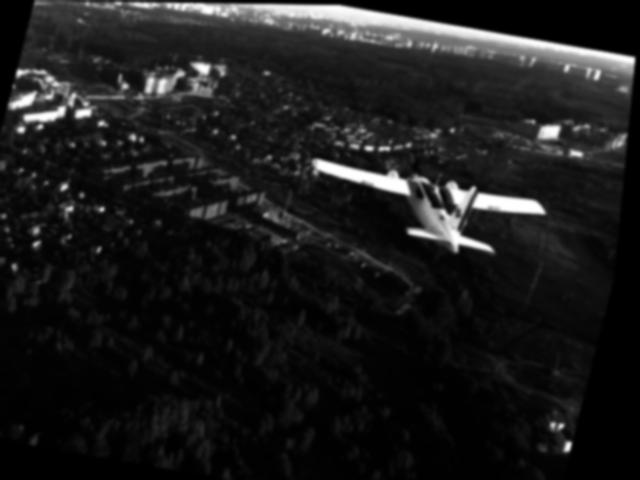hedef: (290, 138, 561, 274)
